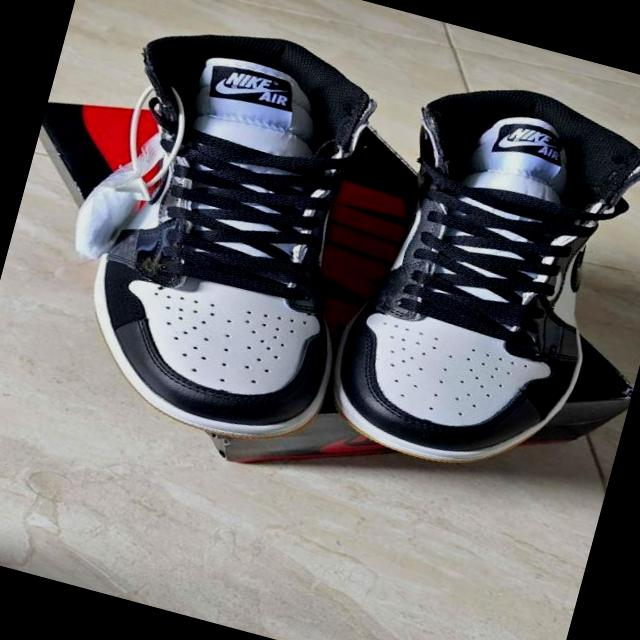nike_fake_jordan: (54, 4, 410, 457), (309, 53, 640, 496)
